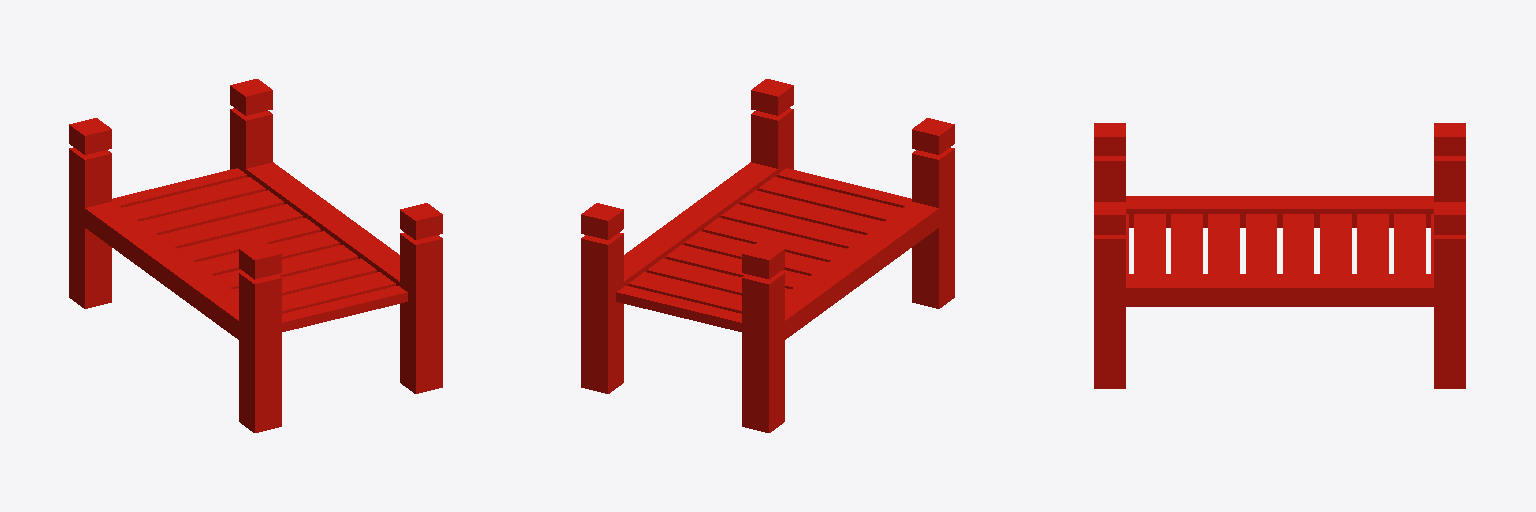
The picture shows the model from 3 angles: view 1: azimuth 30°, elevation 25°; view 2: azimuth 150°, elevation 25°; view 3: azimuth 270°, elevation 25°; orthographic projection.
Parts seen in each view (by area): view 1: cube; view 2: cube; view 3: cube.
Part boxes in pixels (bbox=[...]): cube: bbox=[69, 79, 442, 432]; cube: bbox=[581, 79, 954, 432]; cube: bbox=[1094, 123, 1465, 388].
Bounding box in the file's own units: 0.6406 × 0.5625 × 1.09.
Materials: 1 (1 with a texture image).